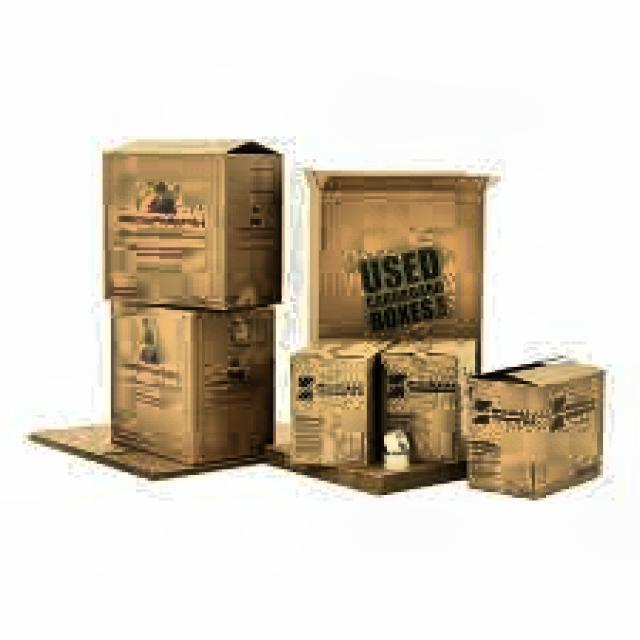cardboard: (301, 165, 498, 344), (100, 137, 282, 310), (108, 298, 273, 466), (461, 352, 606, 498)
